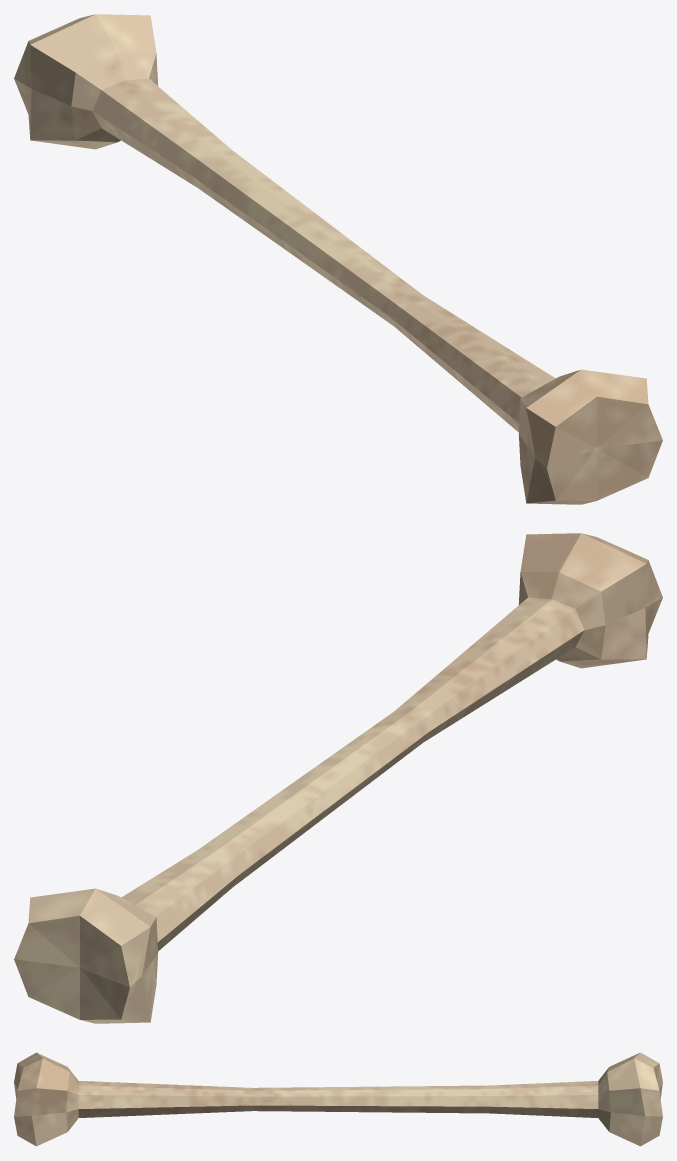
File: SM_Dungeon_Bones.fbx
3 renders of one model, top to bottom at view 1: azimuth 30°, elevation 25°; view 2: azimuth 150°, elevation 25°; view 3: azimuth 270°, elevation 25°, orthographic. The views are drawn at different scales.
Visible parts, largest first — view 1: SM_Dungeon_Bones; view 2: SM_Dungeon_Bones; view 3: SM_Dungeon_Bones.
Part boxes in pixels (x1,y1,x2,y2): SM_Dungeon_Bones: (14, 14, 662, 504); SM_Dungeon_Bones: (14, 533, 662, 1023); SM_Dungeon_Bones: (14, 1052, 662, 1146).
Bounding box in the file's own units: 6.73 × 7.23 × 51.62.
